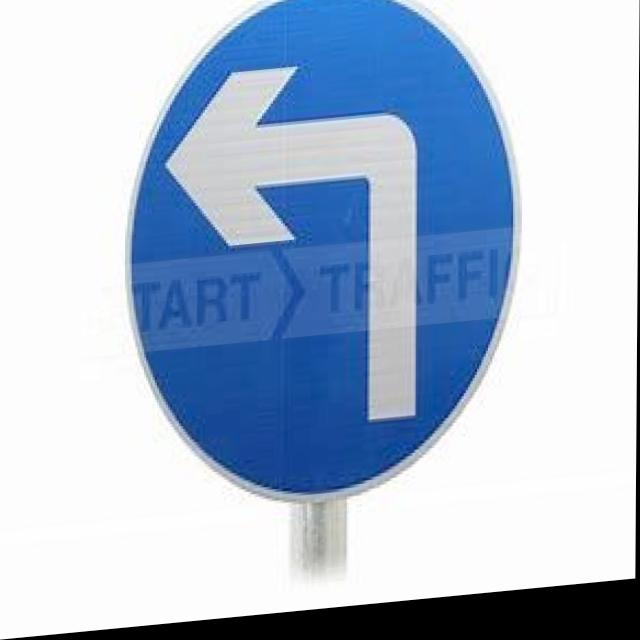COMPULSARY_TURN_LEFT_AHEAD: (124, 0, 517, 529)
